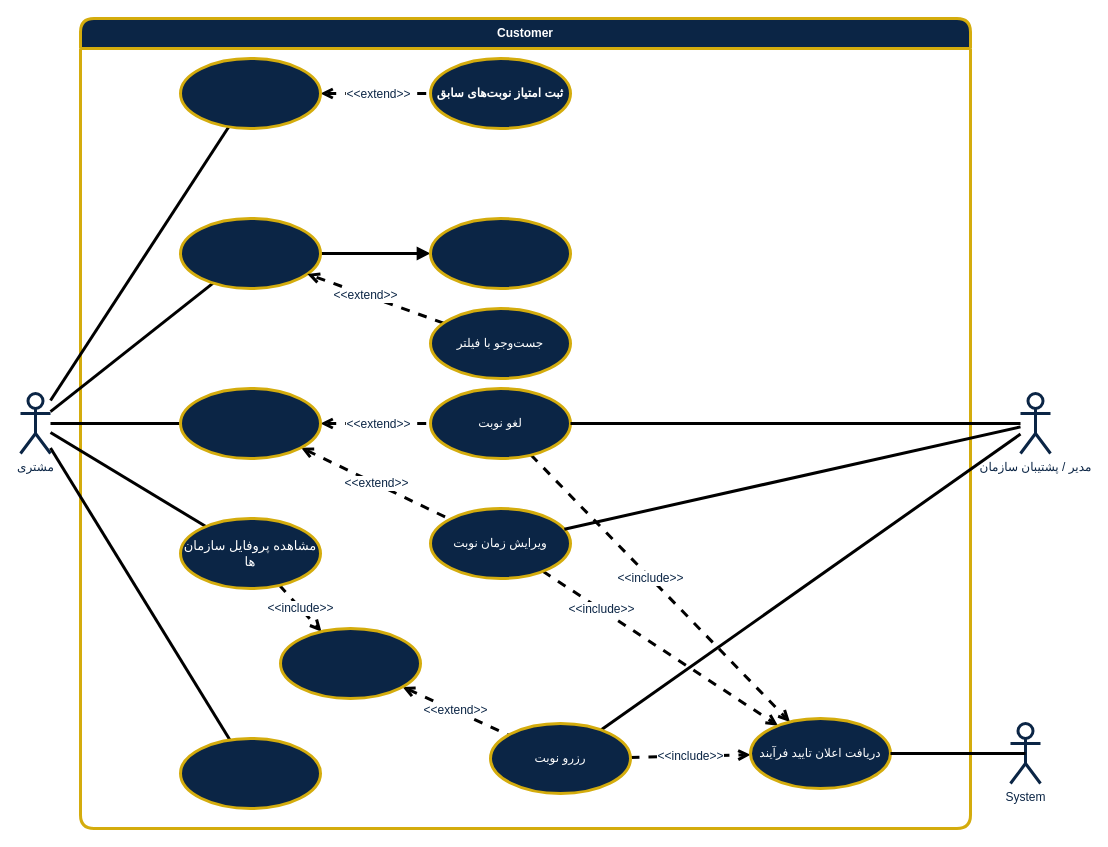
Some shapes in this 1108 by 847 pixel diagram are drawn without their labels. Each missing label, with the box of its shape:
تماس با پشتیبانی: (178, 736, 322, 810)
جست‌وجو بدون حساب کاربری: (428, 216, 572, 290)
جست‌وجوی سازمان‌ها: (178, 216, 322, 290)
مدیریت نوبت‌ها: (178, 386, 322, 460)
مشاهده تاریخچه نوبت ها: (178, 56, 322, 130)
مشاهده نوبت‌های سازمان: (278, 626, 422, 700)
